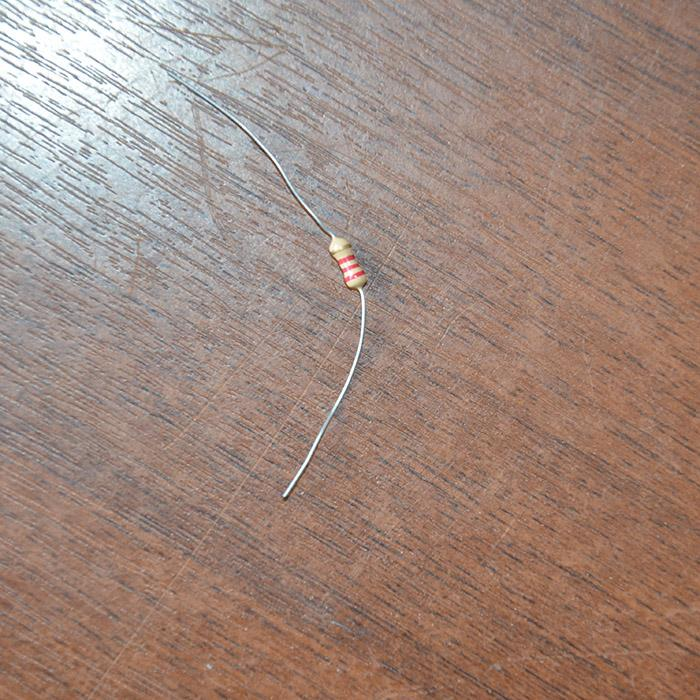resistor: (328, 236, 366, 290)
